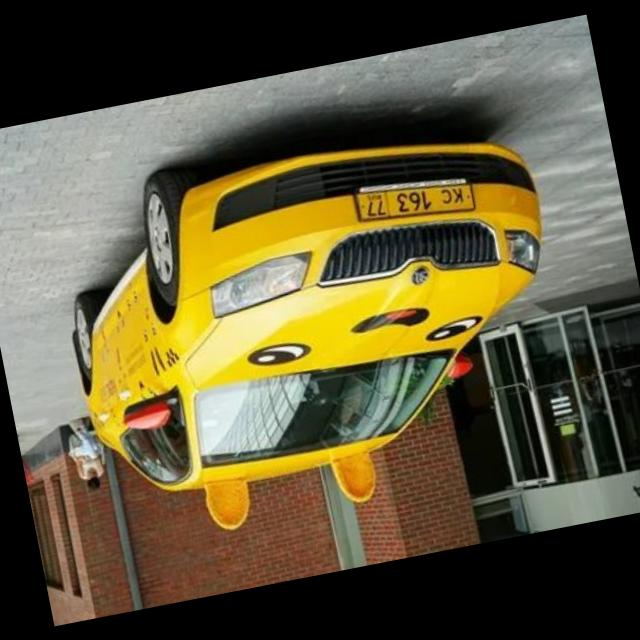taxi: (43, 101, 592, 555)
